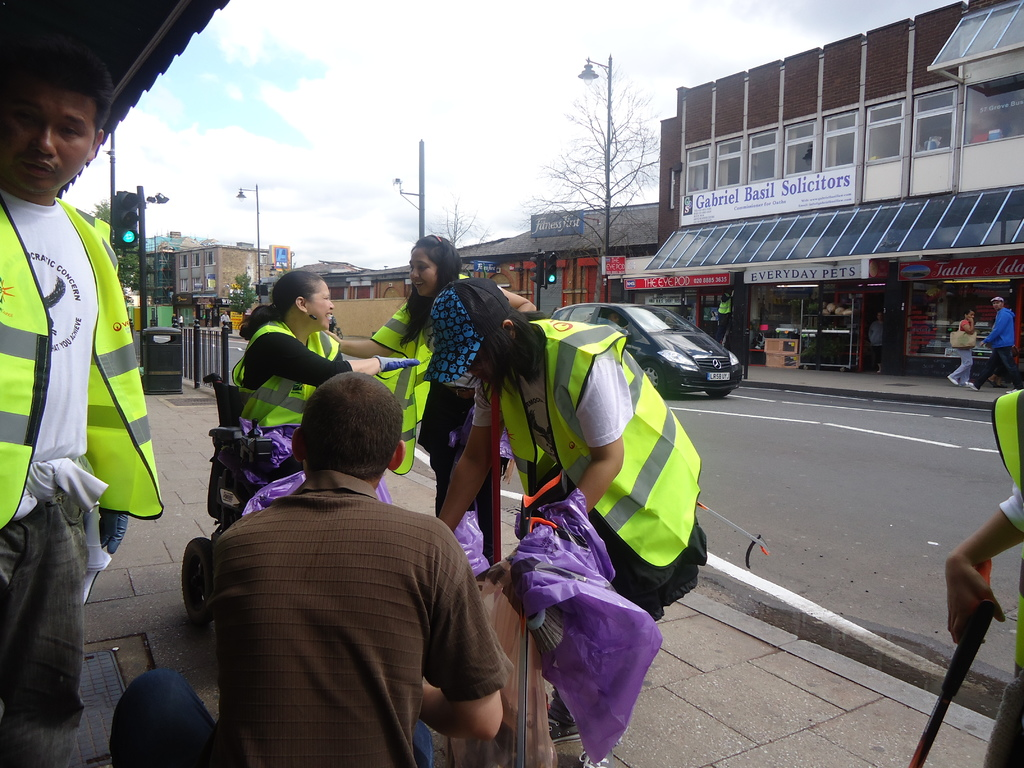Car: (585, 304, 771, 402)
